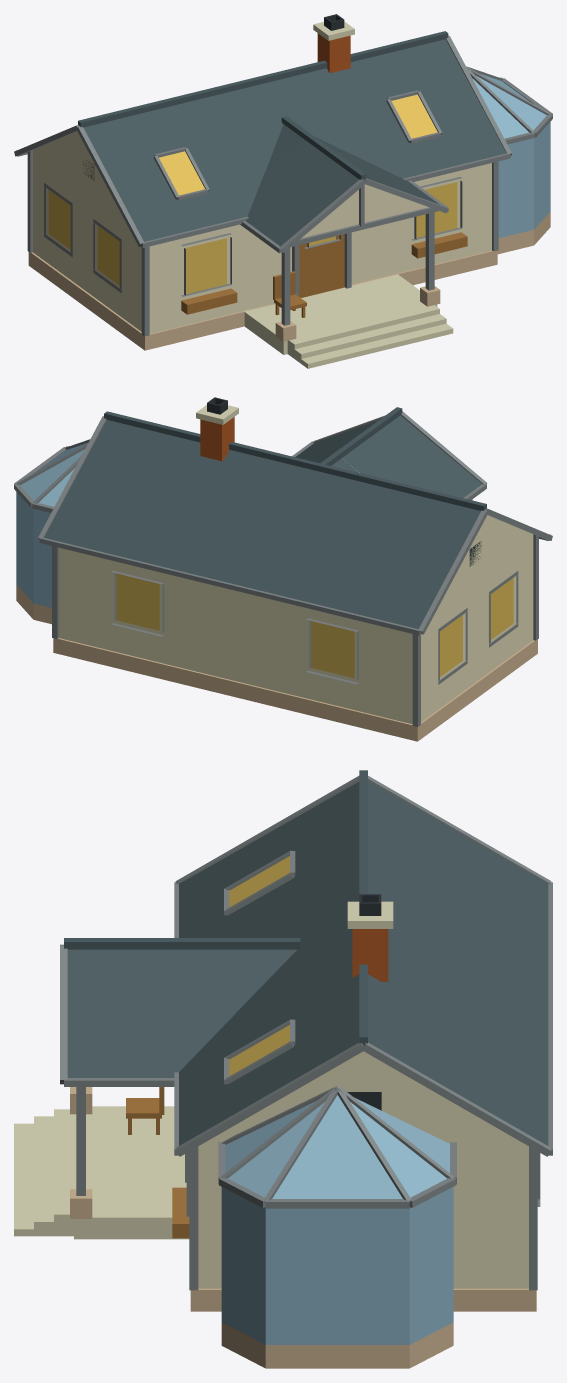
The model's file is House_A_Lv5_LOD2.fbx.
3 views of the same model, one above another, from view 1: azimuth 30°, elevation 25°; view 2: azimuth 150°, elevation 25°; view 3: azimuth 270°, elevation 25° (orthographic). The views are drawn at different scales.
Visible parts, largest first — view 1: House_A_Lv5_Low; view 2: House_A_Lv5_Low; view 3: House_A_Lv5_Low.
Part boxes in pixels (left/top/right/bottom): House_A_Lv5_Low: left=14, top=14, right=552, bottom=368; House_A_Lv5_Low: left=14, top=397, right=552, bottom=741; House_A_Lv5_Low: left=14, top=770, right=552, bottom=1368.
Bounding box in the file's own units: 19.03 × 9.34 × 13.49.
